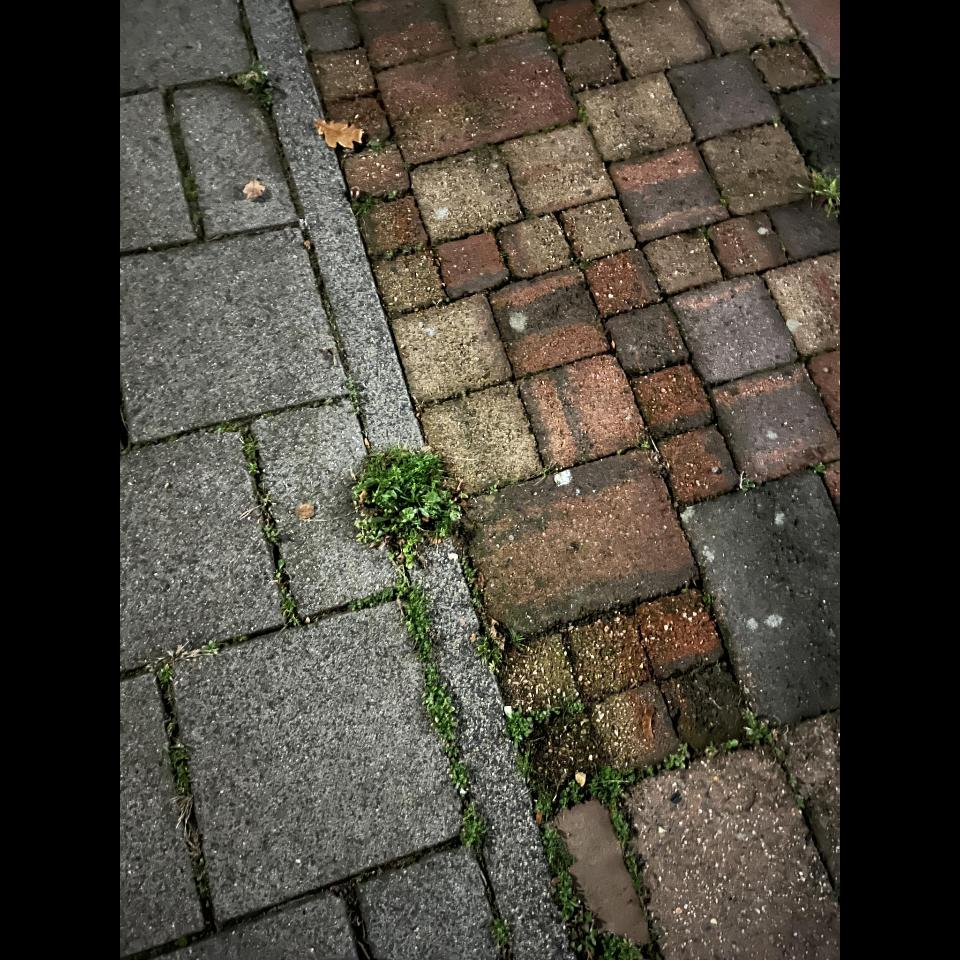weed: (399, 583, 471, 796), (557, 765, 662, 904), (354, 448, 459, 563), (541, 826, 586, 922), (807, 171, 840, 217), (505, 706, 533, 748), (463, 809, 484, 850), (664, 744, 687, 768), (590, 920, 595, 948)
